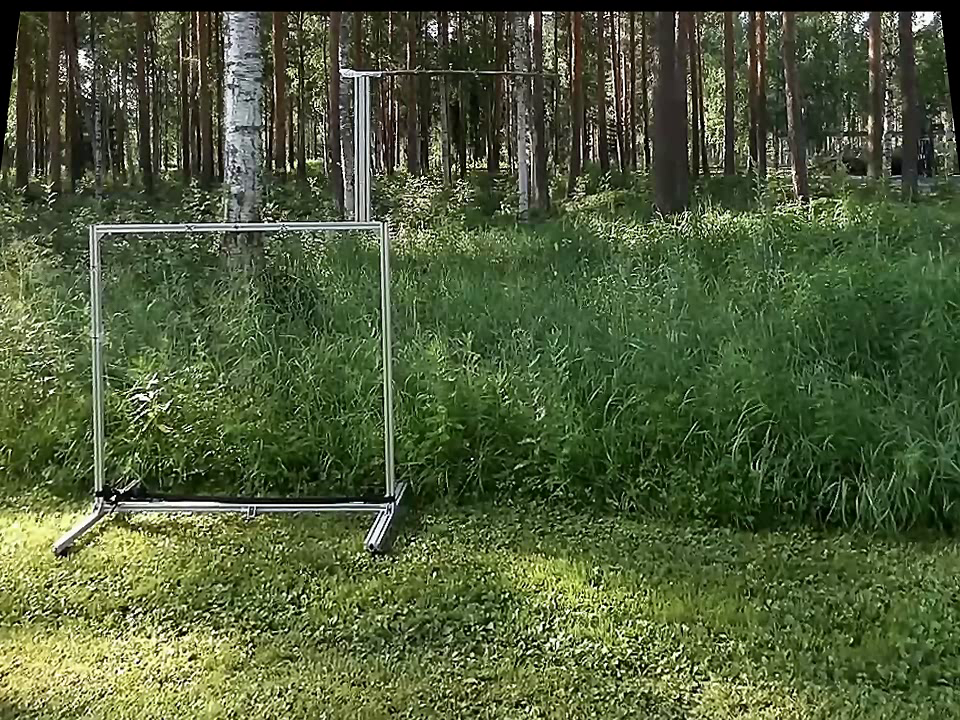aluminum_frame: (83, 222, 109, 504), (48, 484, 134, 563), (377, 215, 401, 495), (104, 494, 386, 515), (360, 477, 420, 556), (351, 76, 373, 220), (94, 220, 385, 230)
branch: (385, 66, 564, 79)
